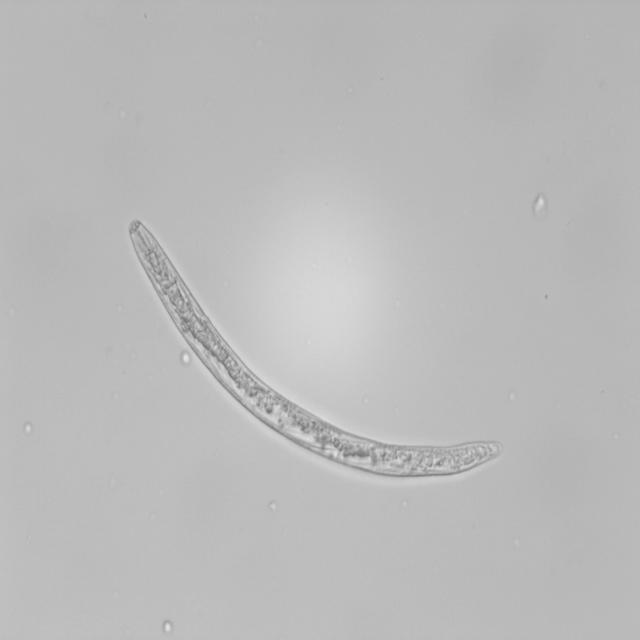Pratylenchus: (116, 208, 524, 478)
